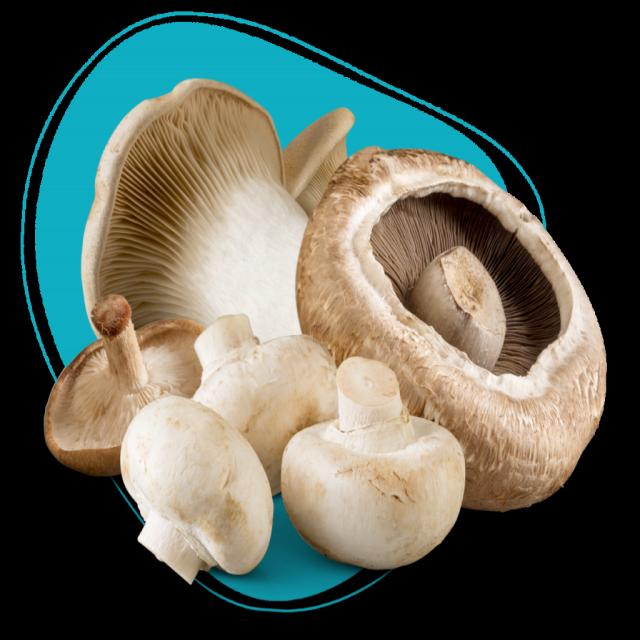Mushroom: (41, 66, 640, 640)
